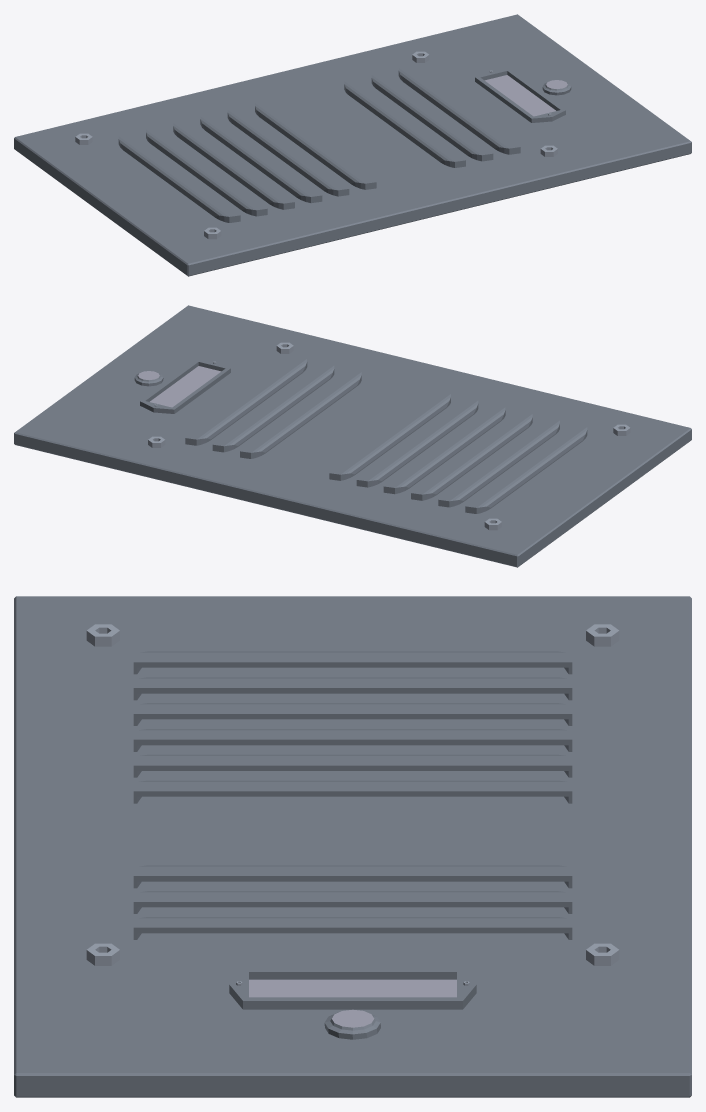
Rendered from Board01_005.fbx.
The picture shows the model from 3 angles, top to bottom: view 1: azimuth 30°, elevation 25°; view 2: azimuth 150°, elevation 25°; view 3: azimuth 270°, elevation 25°; orthographic projection. The views are drawn at different scales.
Visible parts, largest first — view 1: Board01.005; view 2: Board01.005; view 3: Board01.005.
Boxes of the visible parts, x1=… form: Board01.005: x1=14, y1=14, x2=691, y2=276; Board01.005: x1=14, y1=305, x2=691, y2=567; Board01.005: x1=14, y1=596, x2=691, y2=1097.
Bounding box in the file's own units: 1.48 × 0.0535 × 0.8884.
